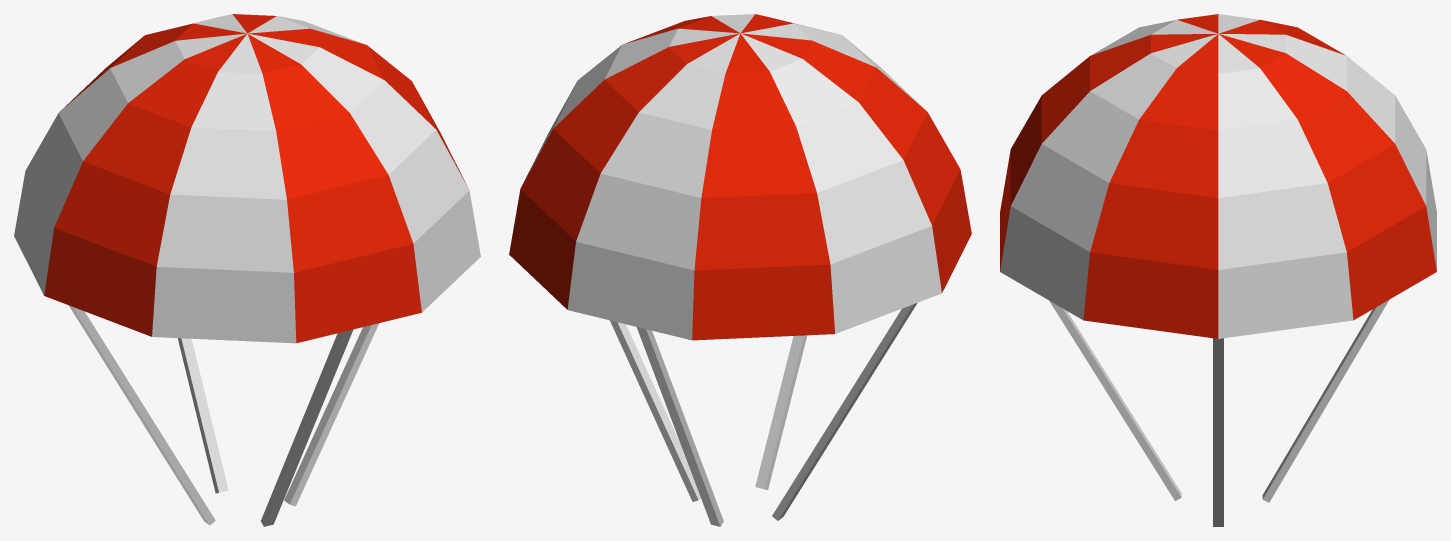
File: Parachute.fbx
3 renders of one model, left to right at view 1: azimuth 30°, elevation 25°; view 2: azimuth 150°, elevation 25°; view 3: azimuth 270°, elevation 25°, orthographic. The views are drawn at different scales.
Parts seen in each view (by area): view 1: pSphere2; view 2: pSphere2; view 3: pSphere2.
Boxes of the visible parts, box(x1,y1,x2,y2) form: pSphere2: box(14, 14, 480, 526); pSphere2: box(509, 14, 971, 526); pSphere2: box(1000, 14, 1436, 526).
Bounding box in the file's own units: 22.14 × 25.07 × 21.05.
